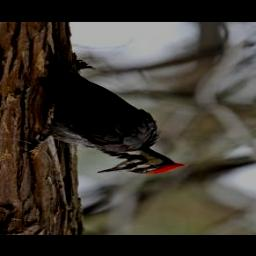Woodpecker: (20, 44, 186, 175)
